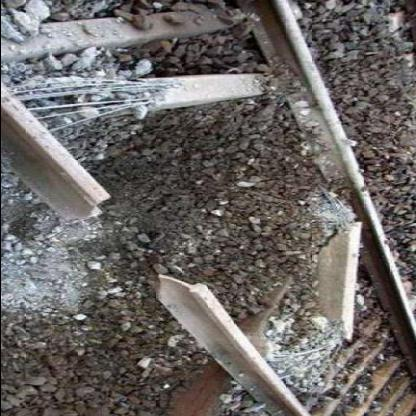Defective 2: (9, 162, 233, 328)
